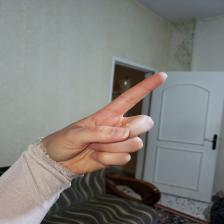one: (52, 70, 170, 178)
